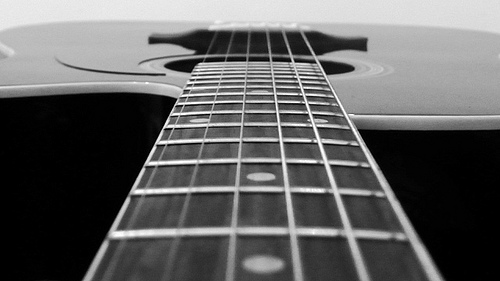guitar: (1, 21, 500, 281)
